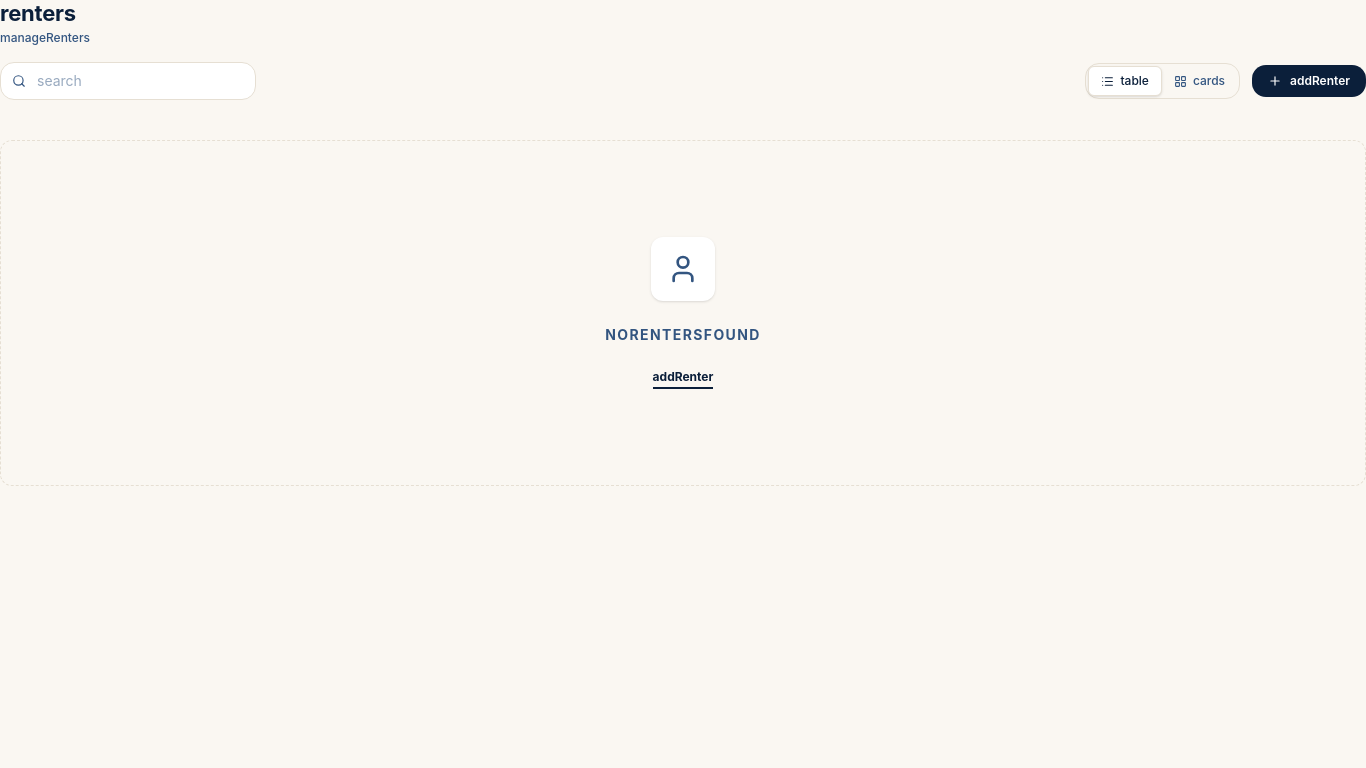
it: Add Tenant duplicate warning › warns on a matching phone in a different format
Click the 1st button "addRenter" at (1309, 81), box [1252, 65, 1365, 97]
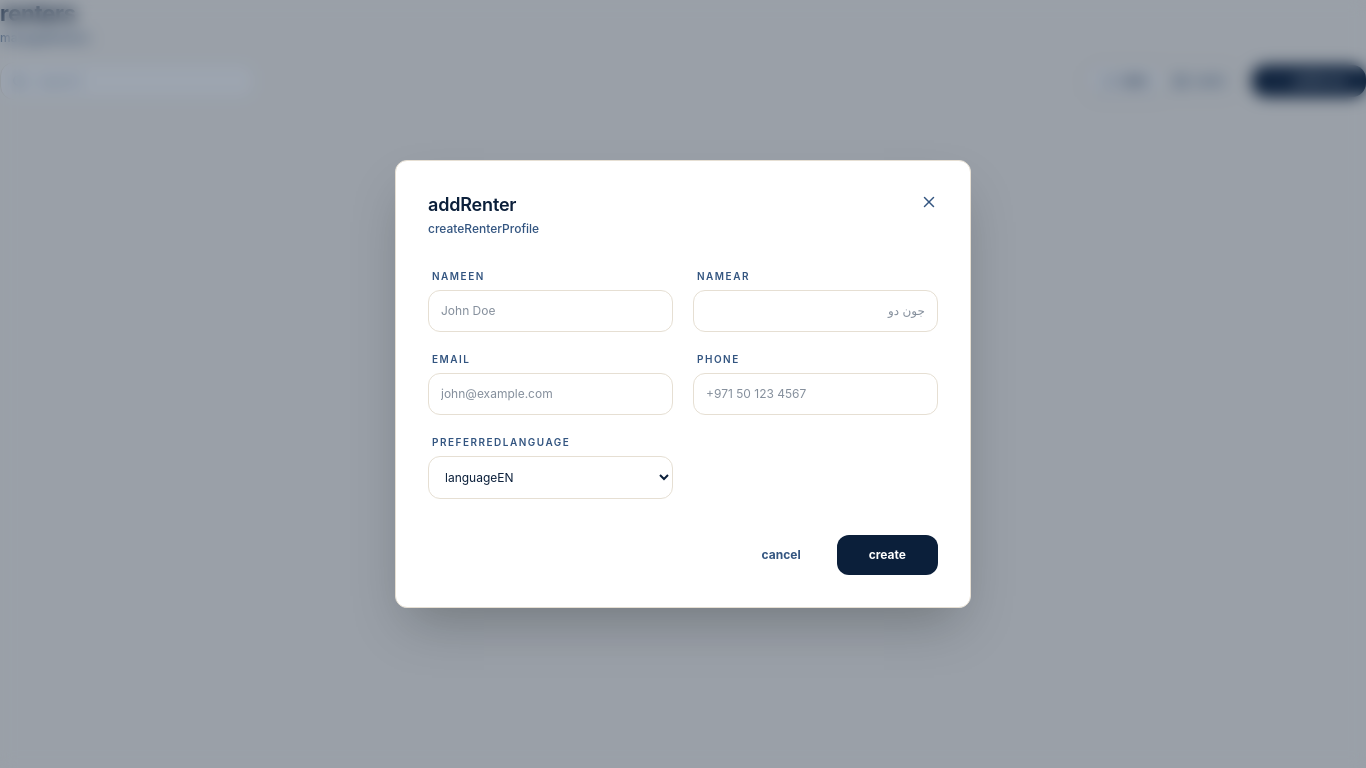
Type "New Person" into the field with placeholder "John Doe" at (550, 311), box [428, 290, 673, 332]
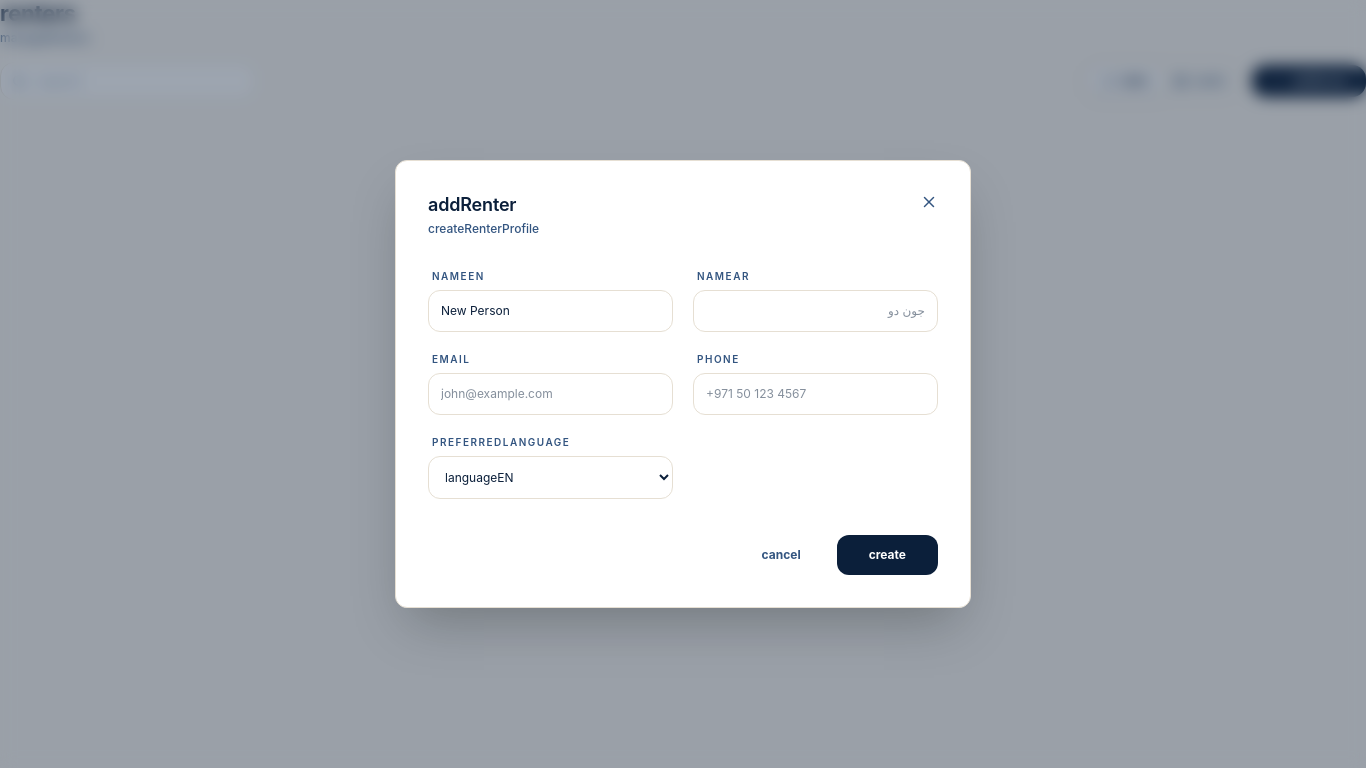
Type "nobody-else@example.com" into the field with placeholder "john@example.com" at (550, 394), box [428, 373, 673, 415]
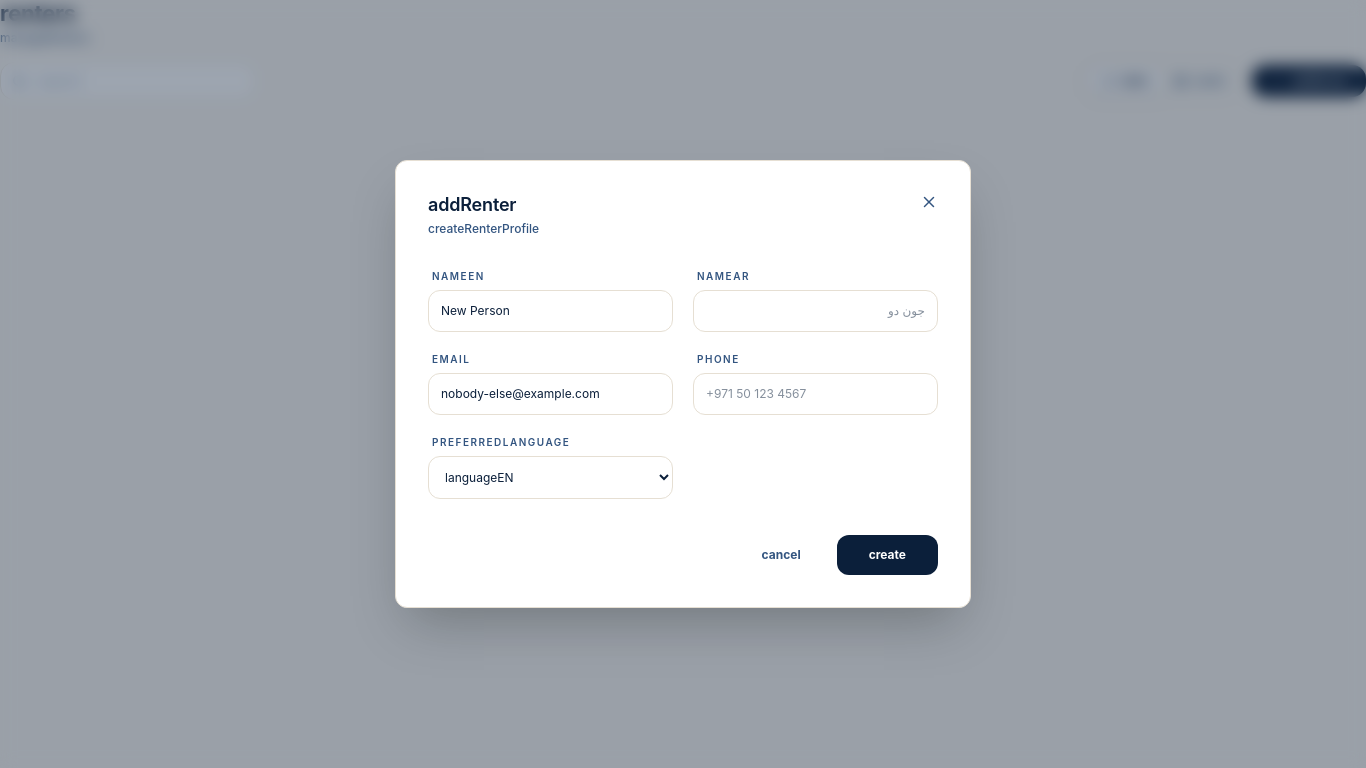
Type "050-123-4567" into the field with placeholder "+971 50 123 4567" at (816, 394), box [693, 373, 938, 415]
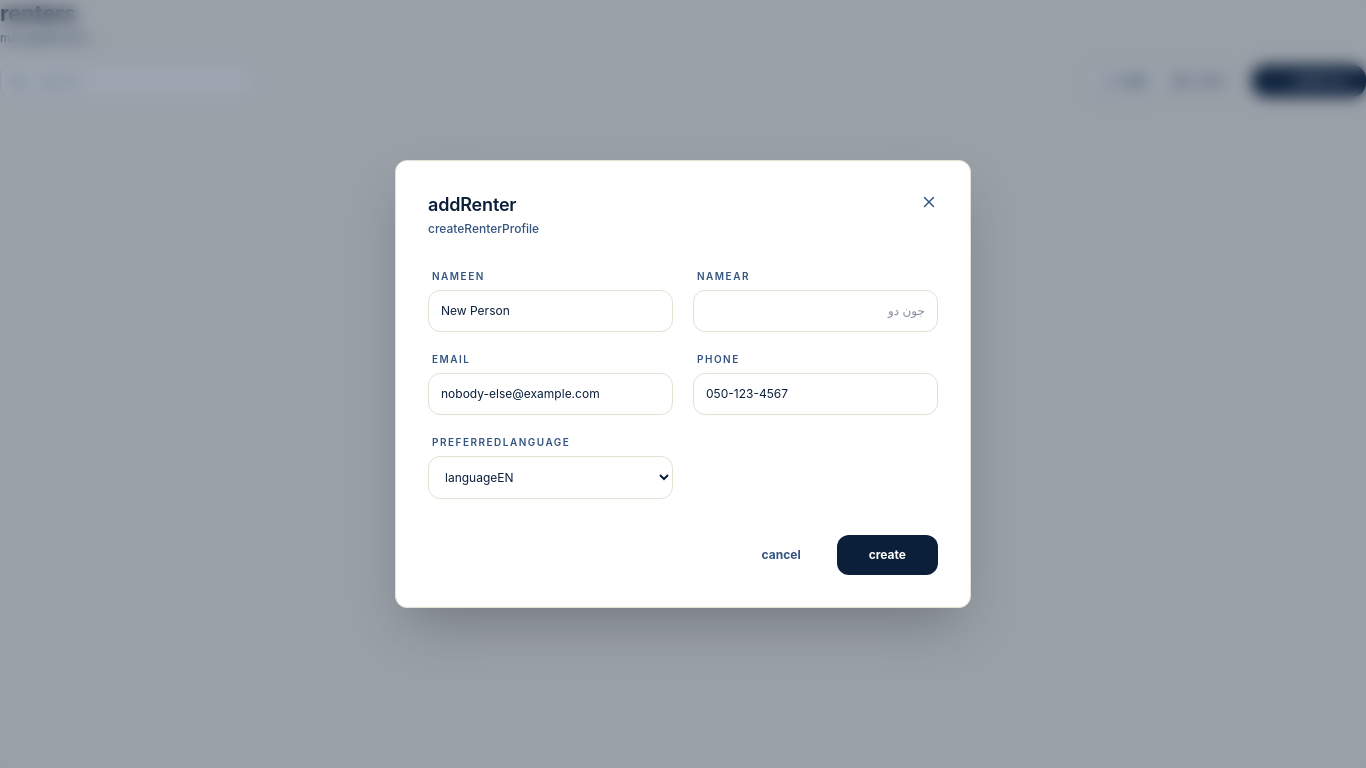
Click the button "create" at (887, 555), box [837, 535, 938, 575]
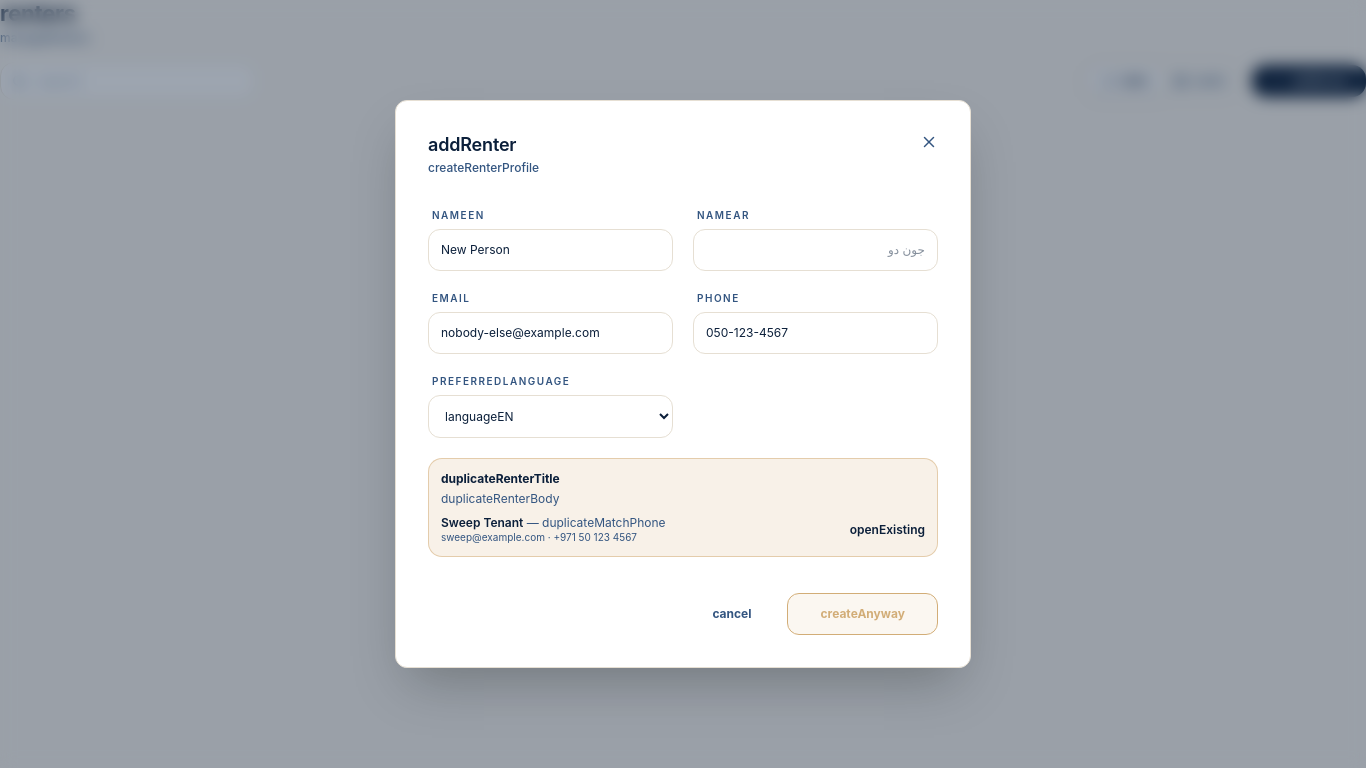
Expected: the message with test id "renter-duplicate-warning" shows "Sweep Tenant", [441, 515, 523, 530]
Expected: the message with test id "renter-duplicate-warning" shows "duplicateMatchPhone", [542, 515, 666, 530]
